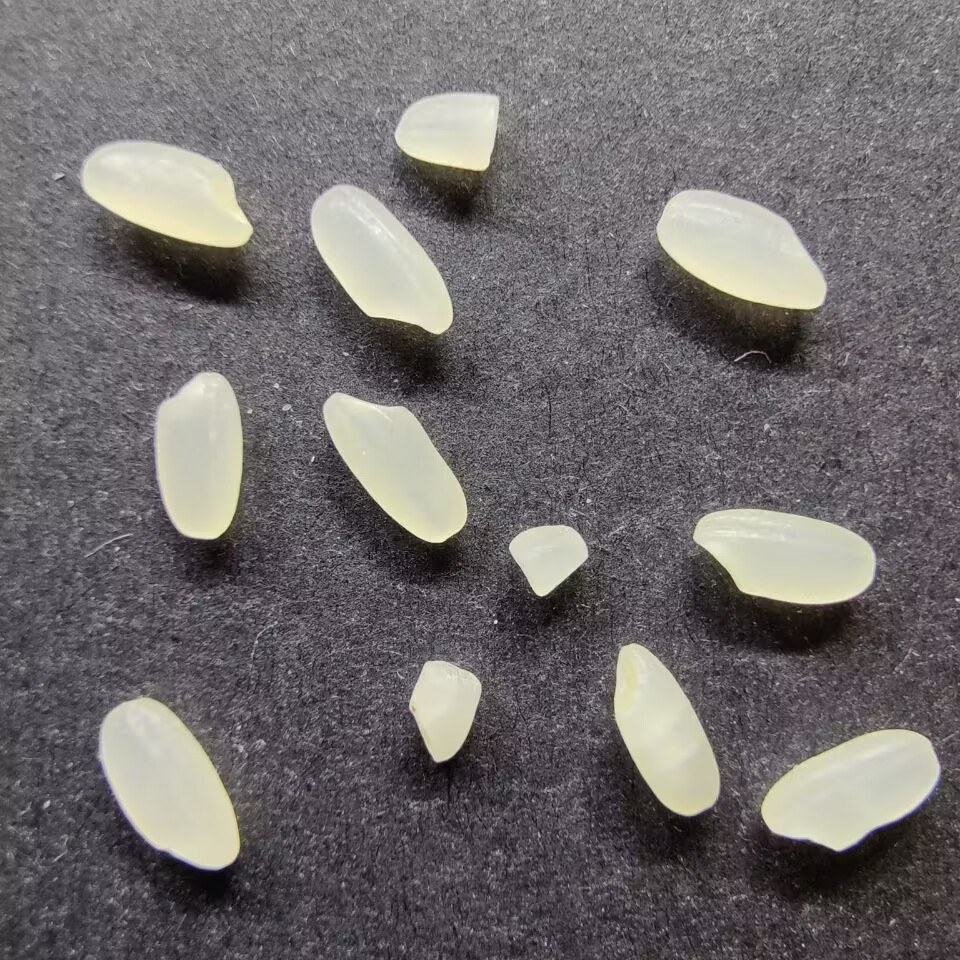broken: (391, 91, 503, 172), (405, 658, 483, 765), (508, 524, 589, 597)
rice: (99, 697, 240, 870), (320, 389, 472, 546), (759, 727, 940, 853), (308, 182, 454, 335), (655, 188, 829, 311), (611, 639, 723, 817), (79, 138, 255, 248), (691, 507, 877, 606), (152, 369, 244, 540)
